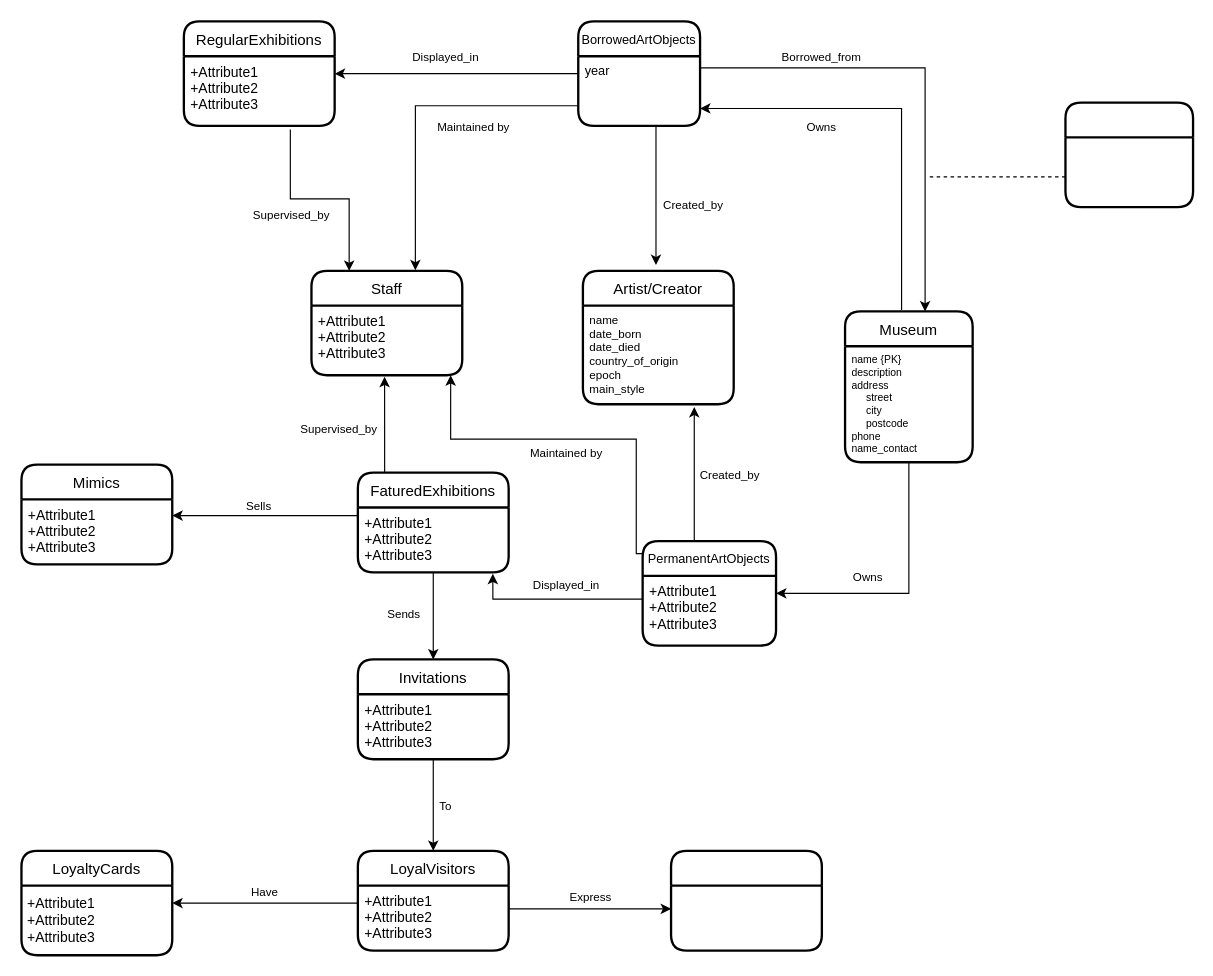
This 1213x976 diagram has some shape labels left out. The shapes that lost their labels are listed below. From the top down, each one's centre as x and y in pixels, then its label:
At (x=1129, y=154): "date_borrowed date_to_be_returned".
At (x=745, y=900): "Preferences".
